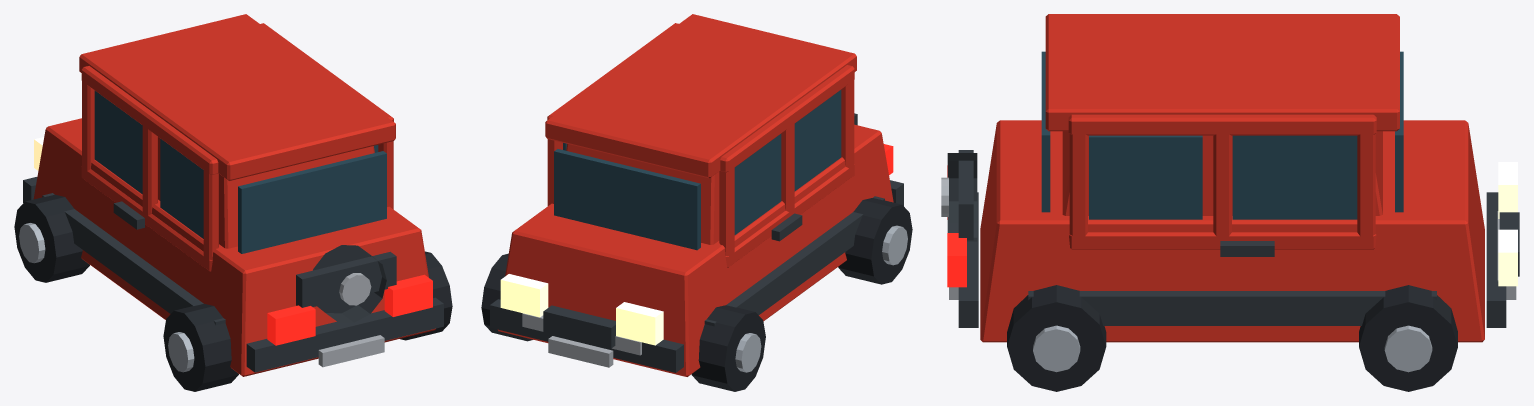
Rendered from npc_toy_suv.glb.
3 renders of one model, left to right at view 1: azimuth 30°, elevation 25°; view 2: azimuth 150°, elevation 25°; view 3: azimuth 270°, elevation 25°, orthographic. The views are drawn at different scales.
Visible parts, largest first — view 1: NPC_Toy_SUV_Paint, NPC_Toy_SUV_Glass, NPC_Toy_SUV_Trim, npc_toy_suv_Wheel_RL_Tire, npc_toy_suv_Wheel_FL_Tire, NPC_Toy_SUV_Rear, NPC_Toy_SUV_Silver, npc_toy_suv_Wheel_RR_Tire, npc_toy_suv_Wheel_RL_Hub, npc_toy_suv_Wheel_FL_Hub; view 2: NPC_Toy_SUV_Paint, NPC_Toy_SUV_Glass, NPC_Toy_SUV_Trim, npc_toy_suv_Wheel_FL_Tire, npc_toy_suv_Wheel_RL_Tire, NPC_Toy_SUV_Light, NPC_Toy_SUV_Silver, npc_toy_suv_Wheel_FR_Tire, npc_toy_suv_Wheel_FL_Hub, npc_toy_suv_Wheel_RL_Hub; view 3: NPC_Toy_SUV_Paint, NPC_Toy_SUV_Glass, NPC_Toy_SUV_Trim, npc_toy_suv_Wheel_RR_Tire, npc_toy_suv_Wheel_FR_Tire, NPC_Toy_SUV_Light, npc_toy_suv_Wheel_FR_Hub, npc_toy_suv_Wheel_RR_Hub, NPC_Toy_SUV_Rear, NPC_Toy_SUV_Silver.
Boxes of the visible parts, <box> form: NPC_Toy_SUV_Paint: <box>33,14,435,376</box>; NPC_Toy_SUV_Glass: <box>94,90,386,253</box>; NPC_Toy_SUV_Trim: <box>23,177,443,372</box>; npc_toy_suv_Wheel_RL_Tire: <box>163,304,238,391</box>; npc_toy_suv_Wheel_FL_Tire: <box>14,194,89,282</box>; NPC_Toy_SUV_Rear: <box>267,274,432,345</box>; NPC_Toy_SUV_Silver: <box>318,273,384,367</box>; npc_toy_suv_Wheel_RR_Tire: <box>400,251,452,340</box>; npc_toy_suv_Wheel_RL_Hub: <box>168,332,194,372</box>; npc_toy_suv_Wheel_FL_Hub: <box>19,223,45,263</box>; NPC_Toy_SUV_Paint: <box>497,14,893,376</box>; NPC_Toy_SUV_Glass: <box>554,90,841,250</box>; NPC_Toy_SUV_Trim: <box>490,113,903,372</box>; npc_toy_suv_Wheel_FL_Tire: <box>691,305,765,391</box>; npc_toy_suv_Wheel_RL_Tire: <box>838,198,912,284</box>; NPC_Toy_SUV_Light: <box>500,274,663,345</box>; NPC_Toy_SUV_Silver: <box>522,313,641,367</box>; npc_toy_suv_Wheel_FR_Tire: <box>481,253,533,341</box>; npc_toy_suv_Wheel_FL_Hub: <box>735,333,761,372</box>; npc_toy_suv_Wheel_RL_Hub: <box>882,225,907,265</box>; NPC_Toy_SUV_Paint: <box>980,14,1484,342</box>; NPC_Toy_SUV_Glass: <box>1041,51,1403,219</box>; NPC_Toy_SUV_Trim: <box>947,150,1519,327</box>; npc_toy_suv_Wheel_RR_Tire: <box>1007,285,1106,391</box>; npc_toy_suv_Wheel_FR_Tire: <box>1359,285,1457,391</box>; NPC_Toy_SUV_Light: <box>1498,162,1517,286</box>; npc_toy_suv_Wheel_FR_Hub: <box>1384,325,1432,372</box>; npc_toy_suv_Wheel_RR_Hub: <box>1033,325,1080,372</box>; NPC_Toy_SUV_Rear: <box>947,165,966,287</box>; NPC_Toy_SUV_Silver: <box>941,177,1516,299</box>.
Size of the model in its own units: 1.43 by 1.15 by 2.33.
